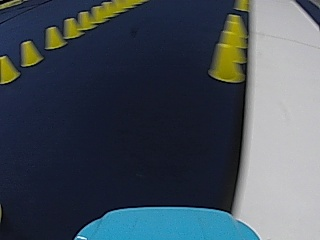cone: (207, 15, 246, 82), (220, 14, 246, 45), (19, 40, 42, 66), (0, 54, 19, 83), (44, 26, 64, 49), (63, 18, 79, 38), (76, 11, 91, 30)
